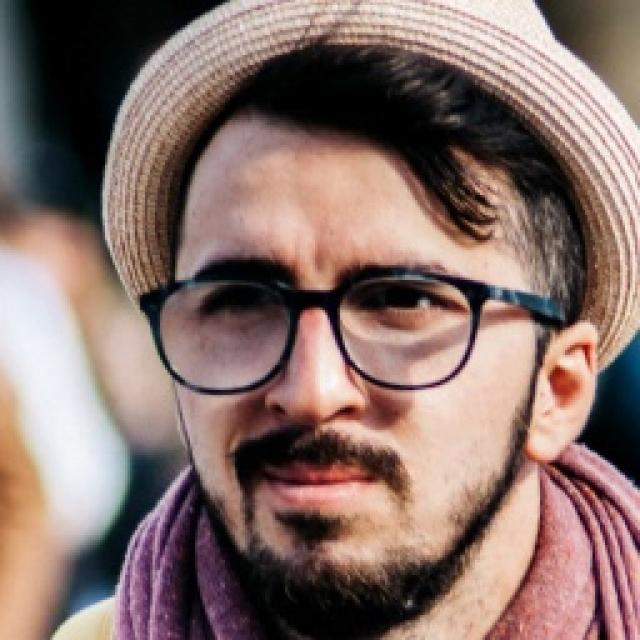glasses: (135, 262, 570, 398)
